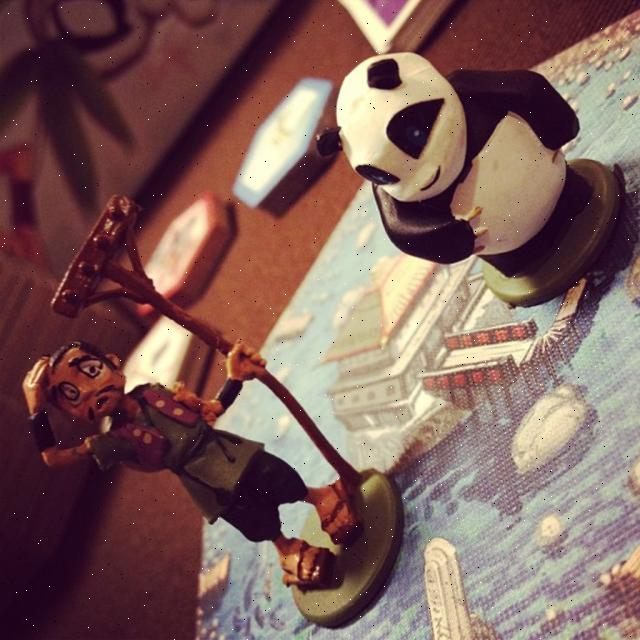panda: (320, 44, 582, 270)
